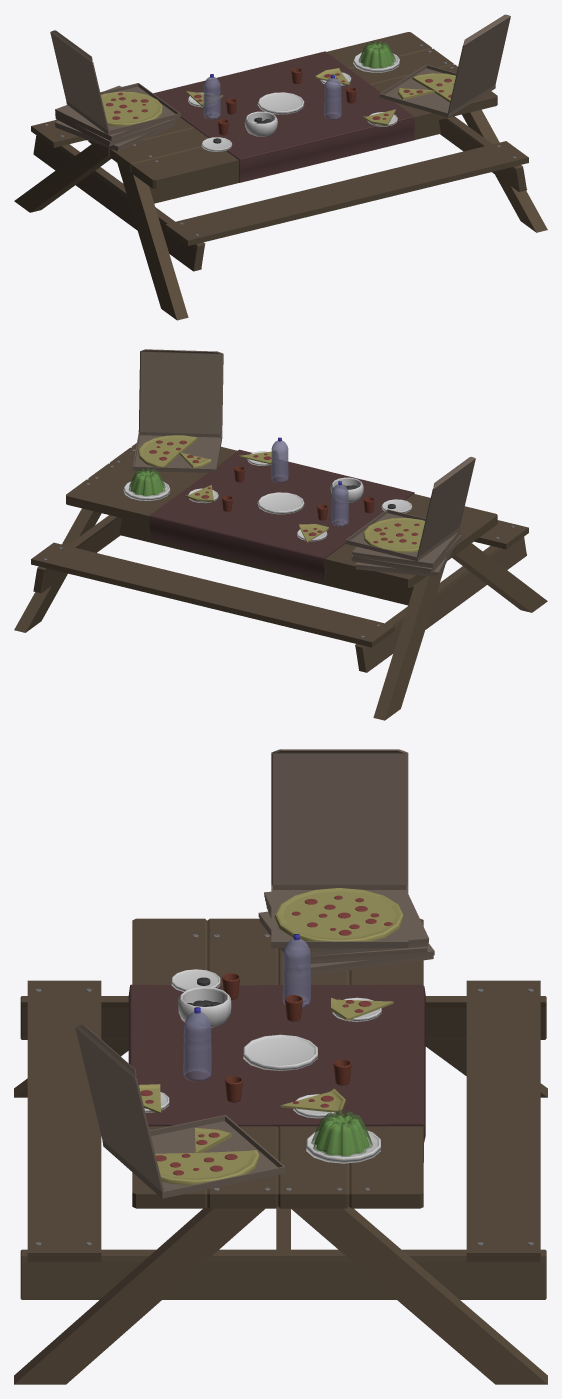
Rendered from PicnicSet.fbx.
3 views of the same model, one above another, from view 1: azimuth 30°, elevation 25°; view 2: azimuth 150°, elevation 25°; view 3: azimuth 270°, elevation 25° (orthographic). The views are drawn at different scales.
Visible parts, largest first — view 1: Table, Tablecloth, PizzaBoxOpen1, PizzaBoxOpen2, Pizza1_1, Pizza2_1, Plate1, PizzaBoxClosed2, BigJello, Bottle1, Bottle, PizzaBoxClosed3 (+4 smaller); view 2: Table, Tablecloth, PizzaBoxOpen1, PizzaBoxOpen2, Pizza1_1, Pizza2_1, PizzaBoxClosed2, Plate1, BigJello, Bottle, Bottle1, PizzaBoxClosed3 (+2 smaller); view 3: Table, Tablecloth, PizzaBoxOpen2, PizzaBoxOpen1, Pizza1_1, Pizza2_1, Plate1, BigJello, Bottle, Bottle1, SmallJello, Bowl1 (+7 smaller).
Boxes of the visible parts, x1=… form: Table: x1=14, y1=32, x2=547, y2=320; Tablecloth: x1=153, y1=51, x2=414, y2=182; PizzaBoxOpen1: x1=379, y1=14, x2=510, y2=117; PizzaBoxOpen2: x1=50, y1=30, x2=180, y2=134; Pizza1_1: x1=101, y1=91, x2=162, y2=126; Pizza2_1: x1=398, y1=73, x2=455, y2=102; Plate1: x1=257, y1=92, x2=304, y2=114; PizzaBoxClosed2: x1=55, y1=85, x2=165, y2=141; BigJello: x1=358, y1=41, x2=396, y2=68; Bottle1: x1=203, y1=74, x2=220, y2=119; Bottle: x1=324, y1=74, x2=341, y2=119; PizzaBoxClosed3: x1=55, y1=114, x2=175, y2=146; Table: x1=14, y1=443, x2=547, y2=720; Tablecloth: x1=149, y1=449, x2=414, y2=581; PizzaBoxOpen1: x1=133, y1=349, x2=223, y2=472; PizzaBoxOpen2: x1=345, y1=457, x2=475, y2=561; Pizza1_1: x1=363, y1=518, x2=425, y2=552; Pizza2_1: x1=138, y1=435, x2=211, y2=468; PizzaBoxClosed2: x1=352, y1=529, x2=460, y2=568; Plate1: x1=257, y1=492, x2=304, y2=514; BigJello: x1=128, y1=468, x2=165, y2=496; Bottle: x1=271, y1=437, x2=288, y2=482; Bottle1: x1=331, y1=481, x2=348, y2=526; PizzaBoxClosed3: x1=351, y1=535, x2=461, y2=573; Table: x1=14, y1=918, x2=547, y2=1384; Tablecloth: x1=128, y1=984, x2=425, y2=1162; PizzaBoxOpen2: x1=271, y1=749, x2=408, y2=948; PizzaBoxOpen1: x1=75, y1=1024, x2=285, y2=1198; Pizza1_1: x1=274, y1=888, x2=403, y2=941; Pizza2_1: x1=155, y1=1128, x2=259, y2=1185; Plate1: x1=243, y1=1034, x2=317, y2=1070; BigJello: x1=311, y1=1111, x2=372, y2=1156; Bottle: x1=183, y1=1007, x2=211, y2=1081; Bottle1: x1=282, y1=934, x2=310, y2=1007; SmallJello: x1=314, y1=1115, x2=369, y2=1155; Bowl1: x1=178, y1=986, x2=231, y2=1027.
Size of the model in its own units: 0.0702 by 0.0365 by 0.0525.
